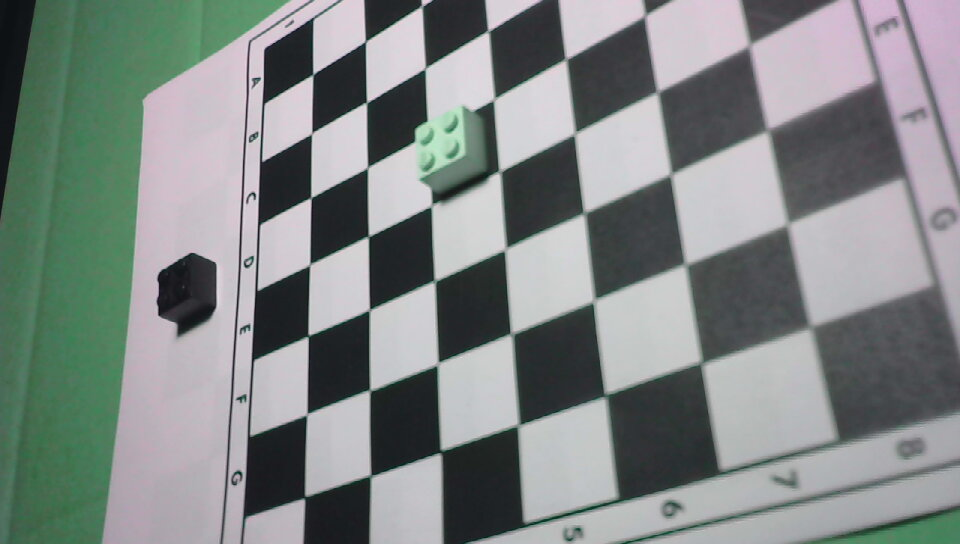wp: (400, 100, 495, 197)
